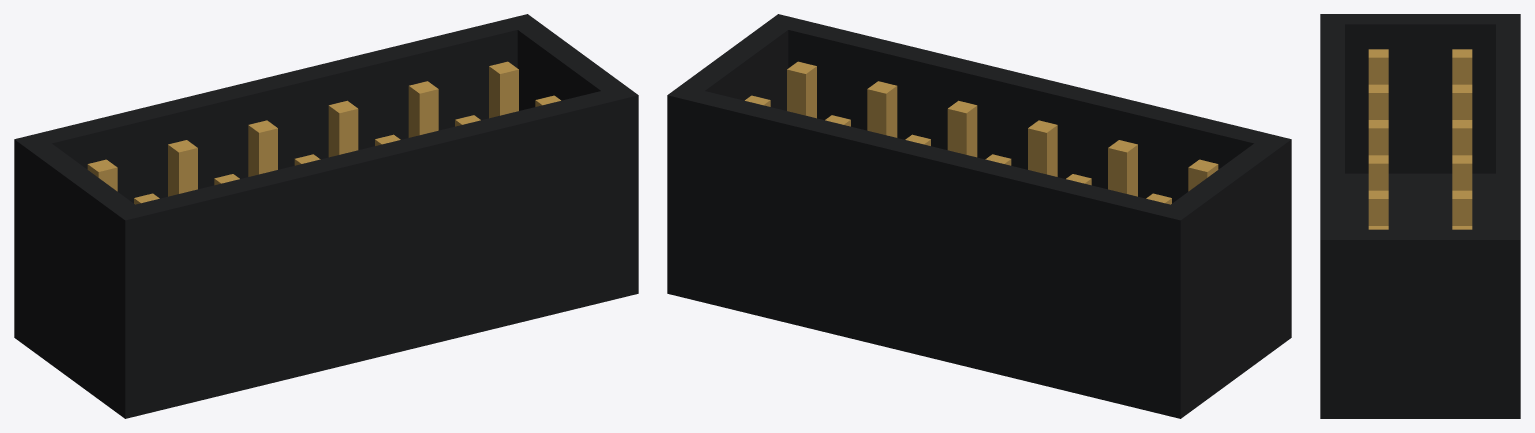
File: L129_JTPM1.fbx
The picture shows the model from 3 angles, left to right: view 1: azimuth 30°, elevation 25°; view 2: azimuth 150°, elevation 25°; view 3: azimuth 270°, elevation 25°; orthographic projection. The views are drawn at different scales.
Parts seen in each view (by area): view 1: JTPM1__Plastic, JTPM1__Gold; view 2: JTPM1__Plastic, JTPM1__Gold; view 3: JTPM1__Plastic, JTPM1__Gold.
Part boxes in pixels (x1=…): JTPM1__Plastic: x1=14, y1=14, x2=638, y2=418; JTPM1__Gold: x1=87, y1=61, x2=560, y2=204; JTPM1__Plastic: x1=667, y1=14, x2=1291, y2=418; JTPM1__Gold: x1=745, y1=61, x2=1218, y2=204; JTPM1__Plastic: x1=1320, y1=14, x2=1520, y2=418; JTPM1__Gold: x1=1368, y1=49, x2=1472, y2=229.
Bounding box in the file's own units: 16.24 × 6 × 6.08.
